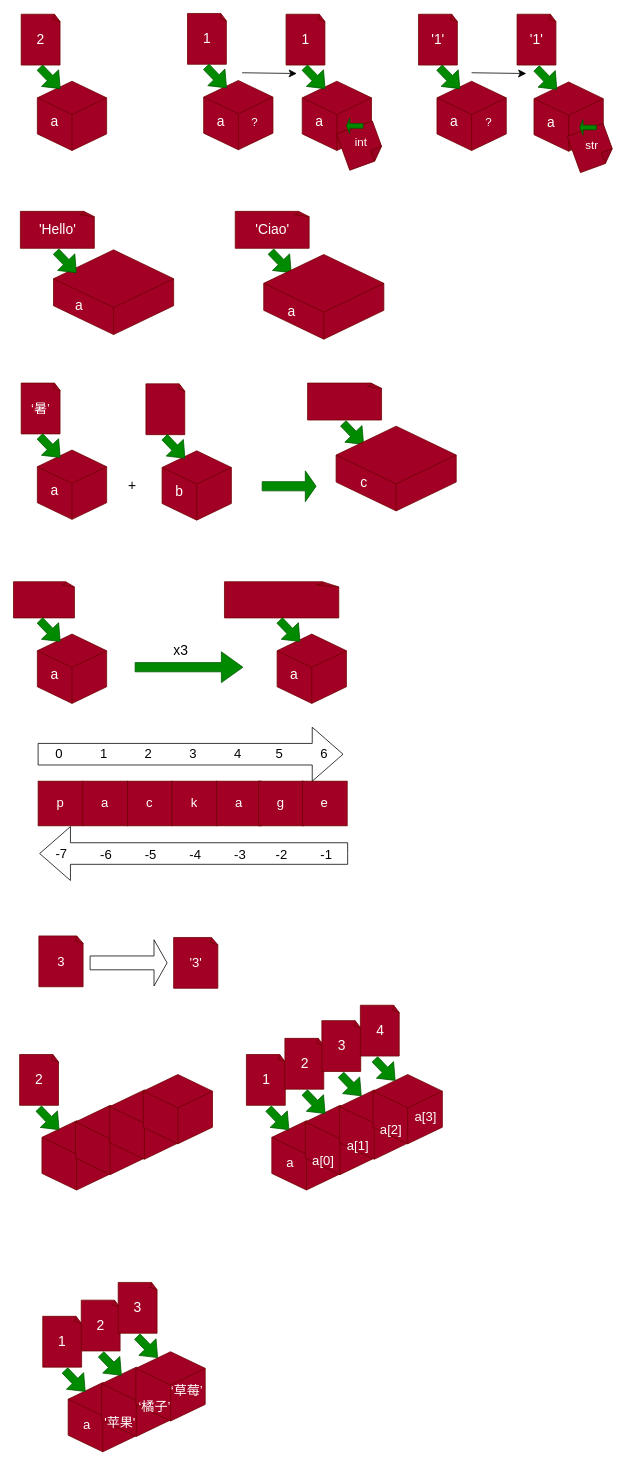
Some shapes in this 630 by 1465 pixel diagram are drawn without their labels. The shapes that lost their labels are listed below. From the top down, each one's box as (x1, y1, x2, y2) in pixels, then its label:
(145, 383, 185, 435): ‘假’
(307, 382, 382, 420): ‘暑假’
(13, 581, 75, 618): 'Hey!'
(224, 581, 340, 618): 'Hey! Hey! Hey!'
(89, 939, 167, 986): %d
